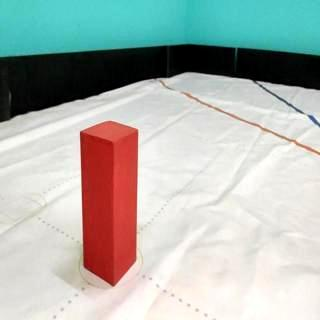redbox: (79, 120, 139, 288)
